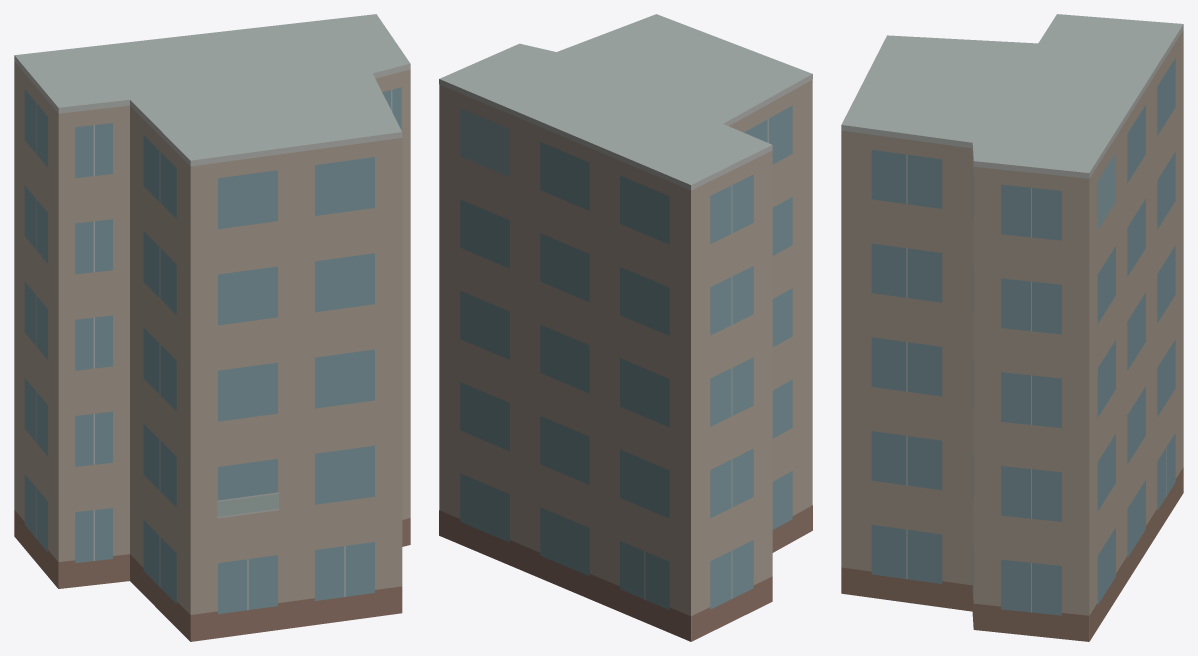
File: survey-upis-32870225.glb
3 renders of one model, left to right at view 1: azimuth 30°, elevation 25°; view 2: azimuth 150°, elevation 25°; view 3: azimuth 270°, elevation 25°, orthographic. The views are drawn at different scales.
Parts seen in each view (by area): view 1: survey-upis-32870225.tmp; view 2: survey-upis-32870225.tmp; view 3: survey-upis-32870225.tmp.
Boxes of the visible parts, x1,y1,x2,y2 form: survey-upis-32870225.tmp: (14,14,410,641); survey-upis-32870225.tmp: (439,14,812,641); survey-upis-32870225.tmp: (841,14,1183,641).
Size of the model in its own units: 14.75 by 20.25 by 13.41.
